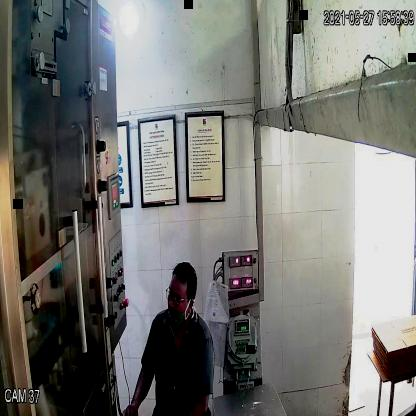goggles: (166, 284, 194, 305)
